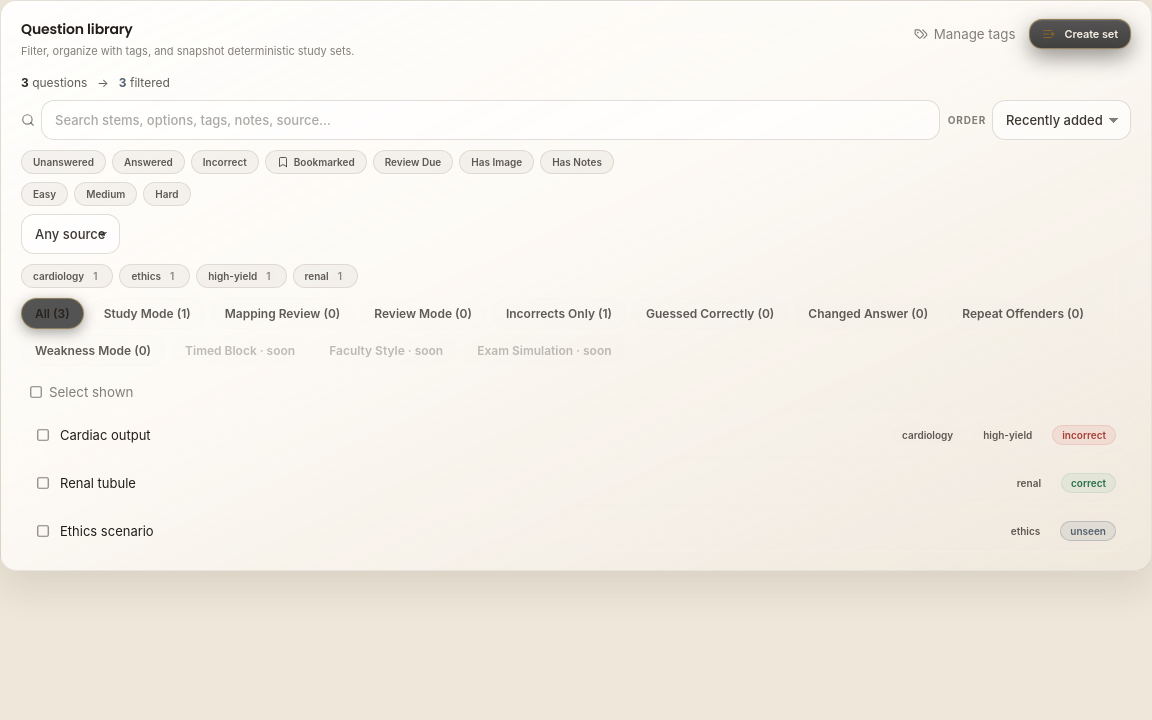
Test: BankBrowser library › exposes accessible pressed state and labelled bulk region
The width and height of the screenshot is (1152, 720).
Click the button "Incorrect": [225, 162] box [191,150,259,174]
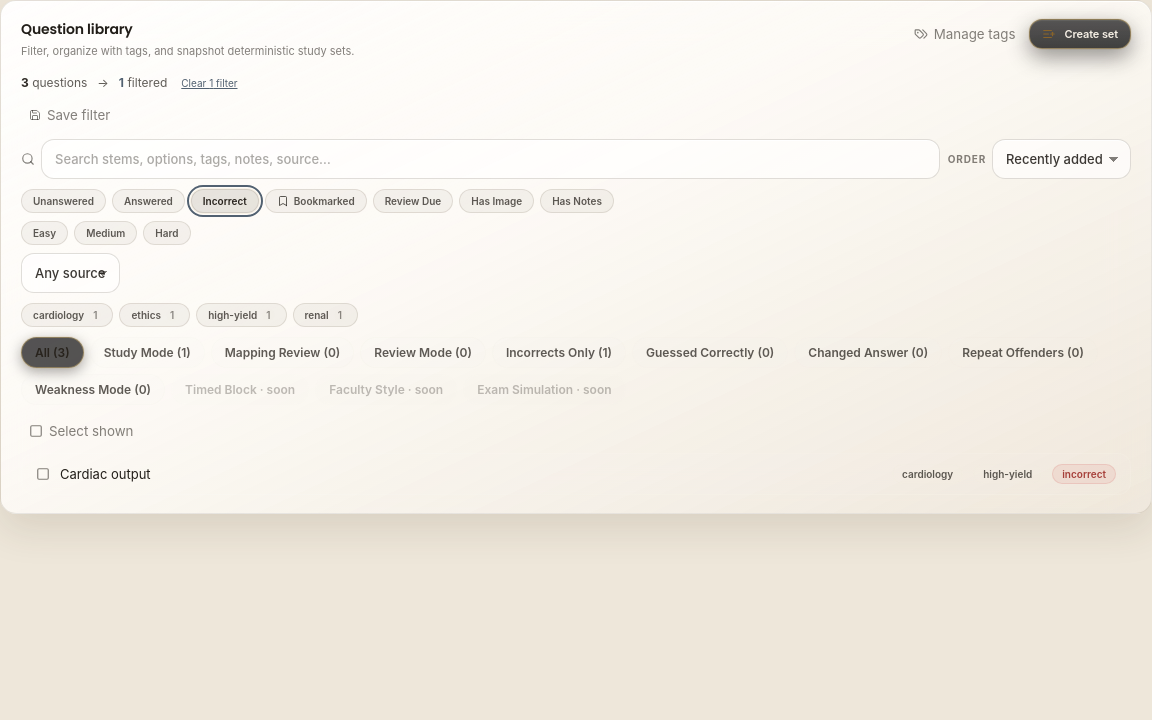
Expected: the button "Incorrect" is pressed, [191,188,259,212]
Click the button named "Select question 1: Cardiac output": [43, 474] box [36,466,50,480]
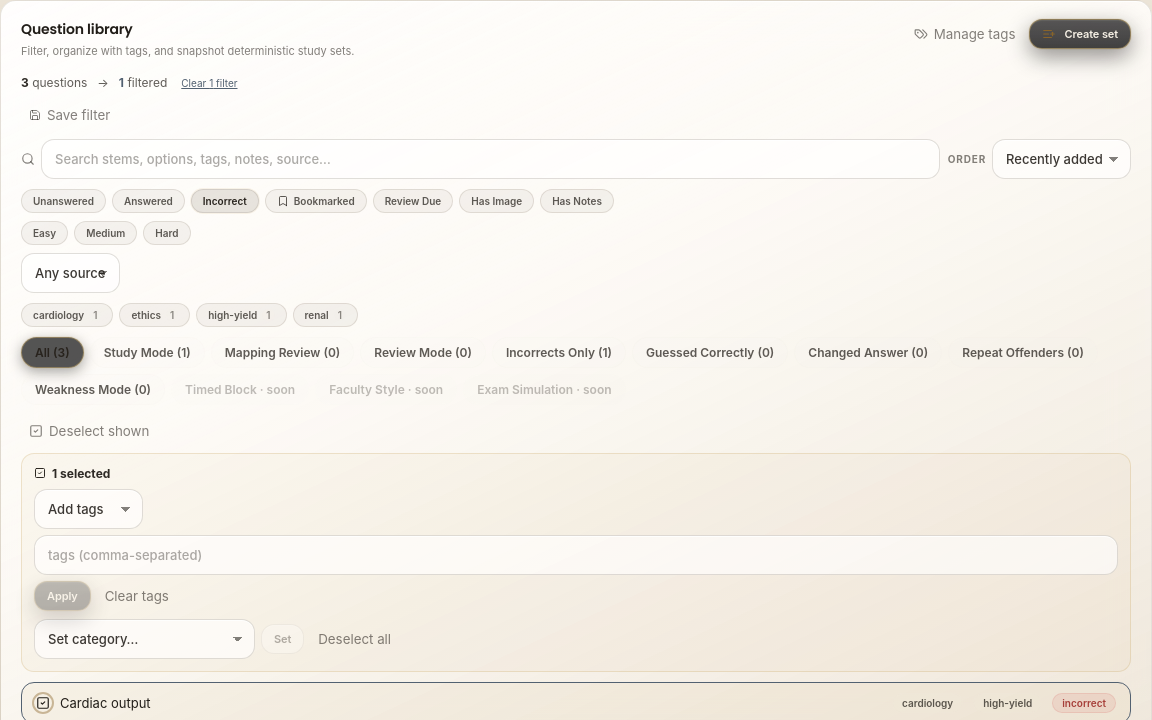
Expected: the element named "Bulk actions for 1 selected" is shown, [21,452,1131,672]
